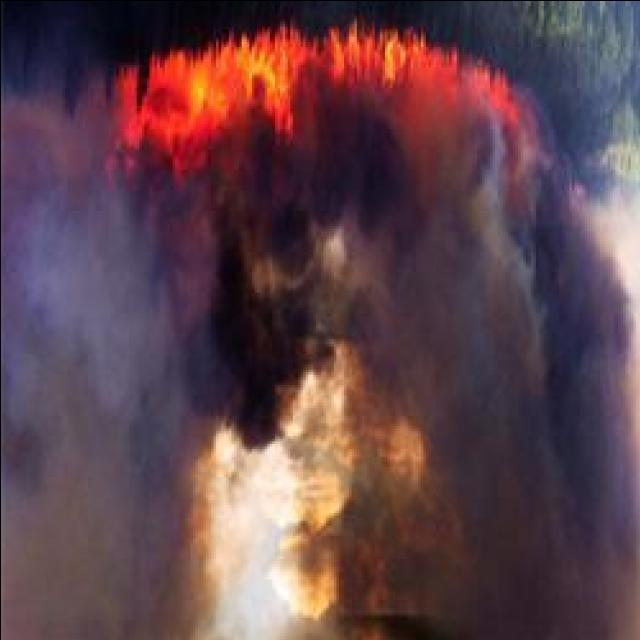fire: (222, 29, 412, 94), (117, 55, 222, 151), (414, 46, 509, 110)
smoke: (0, 97, 123, 320), (175, 240, 296, 442), (432, 104, 534, 334), (310, 84, 395, 235)
